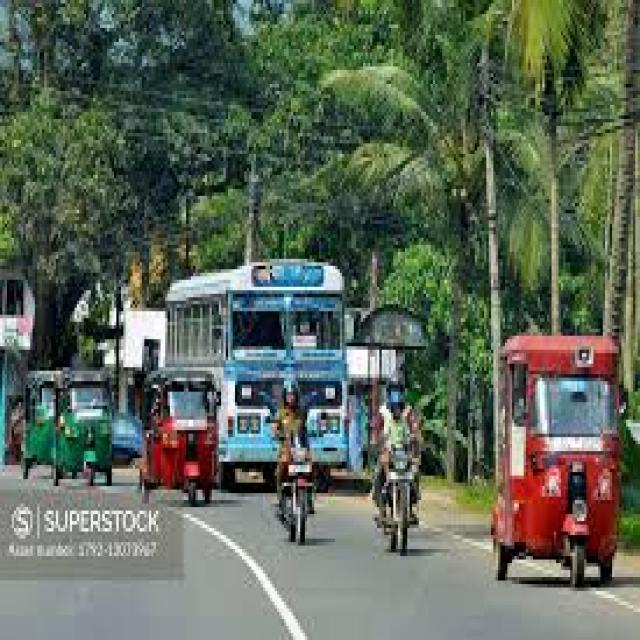bodaboda: (266, 397, 348, 566), (373, 397, 441, 572)
bus: (134, 238, 375, 356)
tuktuk: (490, 323, 640, 602), (138, 370, 238, 524), (32, 348, 118, 486)
